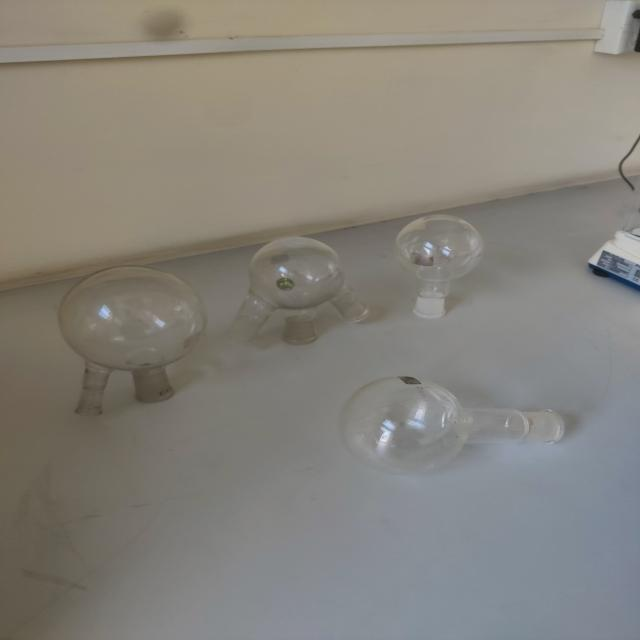Round_Bottom_Flask_Borosilicate_Glass_1_Neck: (331, 365, 591, 484), (376, 194, 502, 332)
Round_Bottom_Flask_Borosilicate_Glass_2_Neck: (43, 247, 212, 428)
Round_Bottom_Flask_Borosilicate_Glass_3_Neck: (210, 205, 384, 361)
